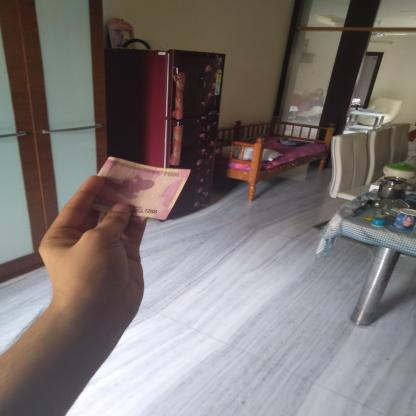New2000Back: (81, 158, 186, 218)
